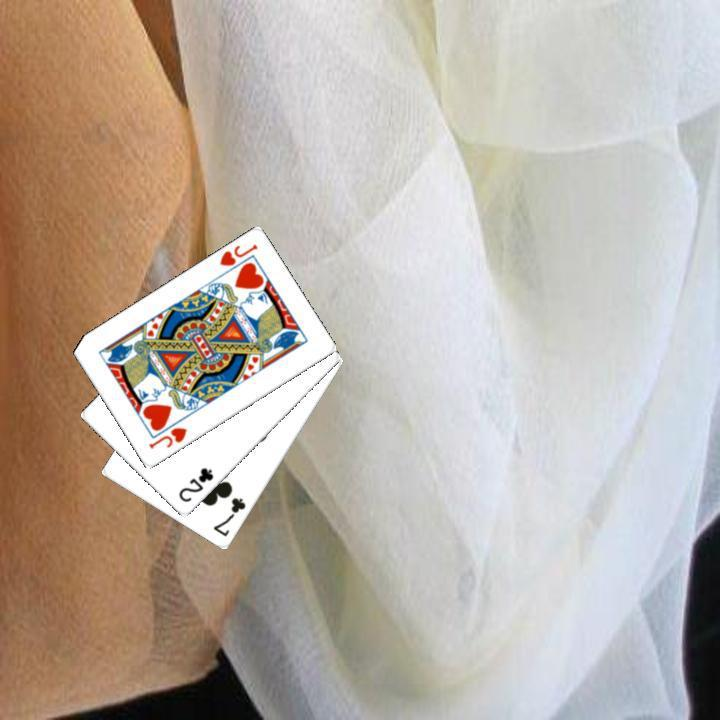2: (174, 463, 216, 504)
7: (209, 493, 248, 539)
J: (215, 240, 260, 269), (144, 423, 189, 451)
